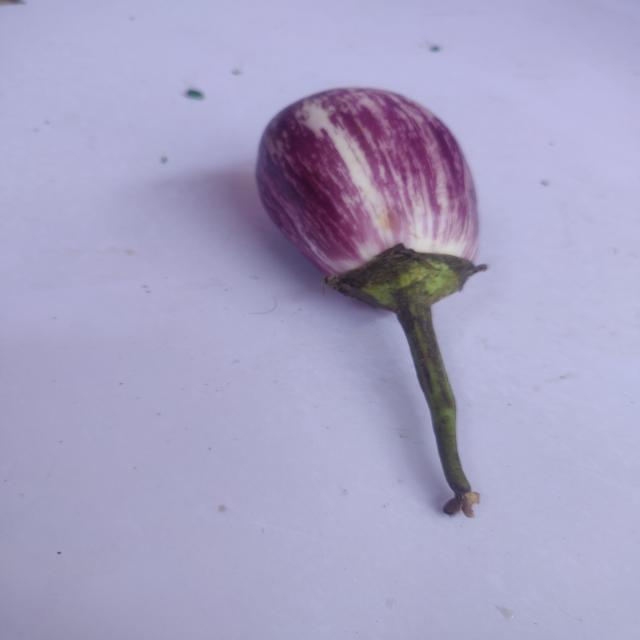Eggplant: (240, 74, 513, 535)
